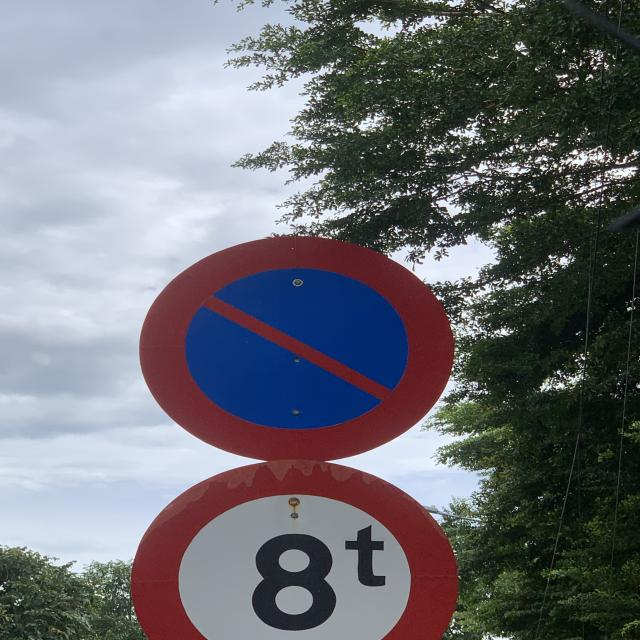Cam_Dau_Xe: (132, 231, 453, 454)
